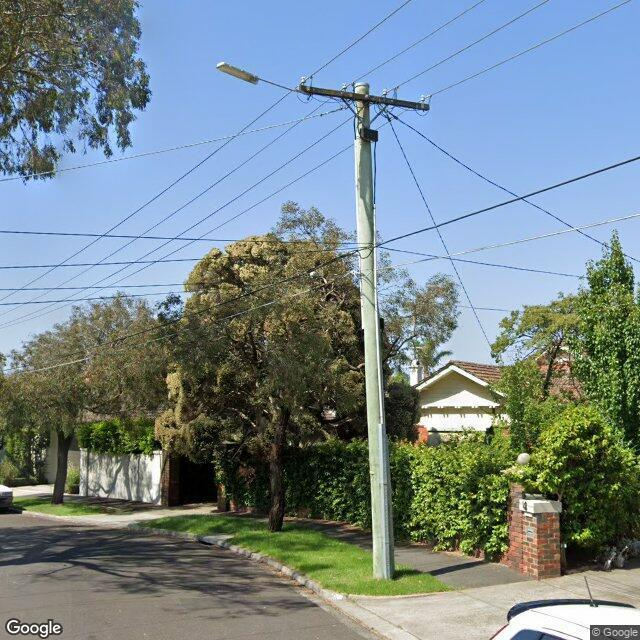crossarm: (298, 85, 428, 110)
streetlight: (215, 62, 299, 92)
timber-pole: (354, 83, 395, 579)
